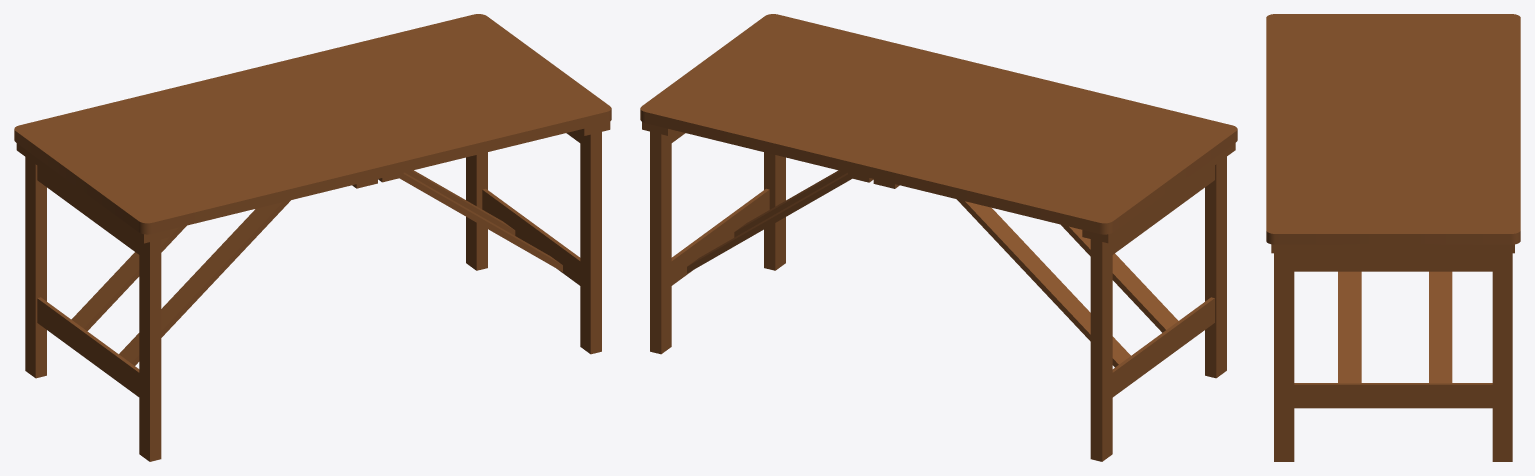
The model's file is mesa_grande.fbx.
3 renders of one model, left to right at view 1: azimuth 30°, elevation 25°; view 2: azimuth 150°, elevation 25°; view 3: azimuth 270°, elevation 25°, orthographic. The views are drawn at different scales.
Parts seen in each view (by area): view 1: Cube.017; view 2: Cube.017; view 3: Cube.017.
Boxes of the visible parts, x1=… form: Cube.017: x1=14, y1=14, x2=611, y2=461; Cube.017: x1=640, y1=14, x2=1237, y2=461; Cube.017: x1=1266, y1=14, x2=1520, y2=461.
Bounding box in the file's own units: 550 × 270 × 269.
